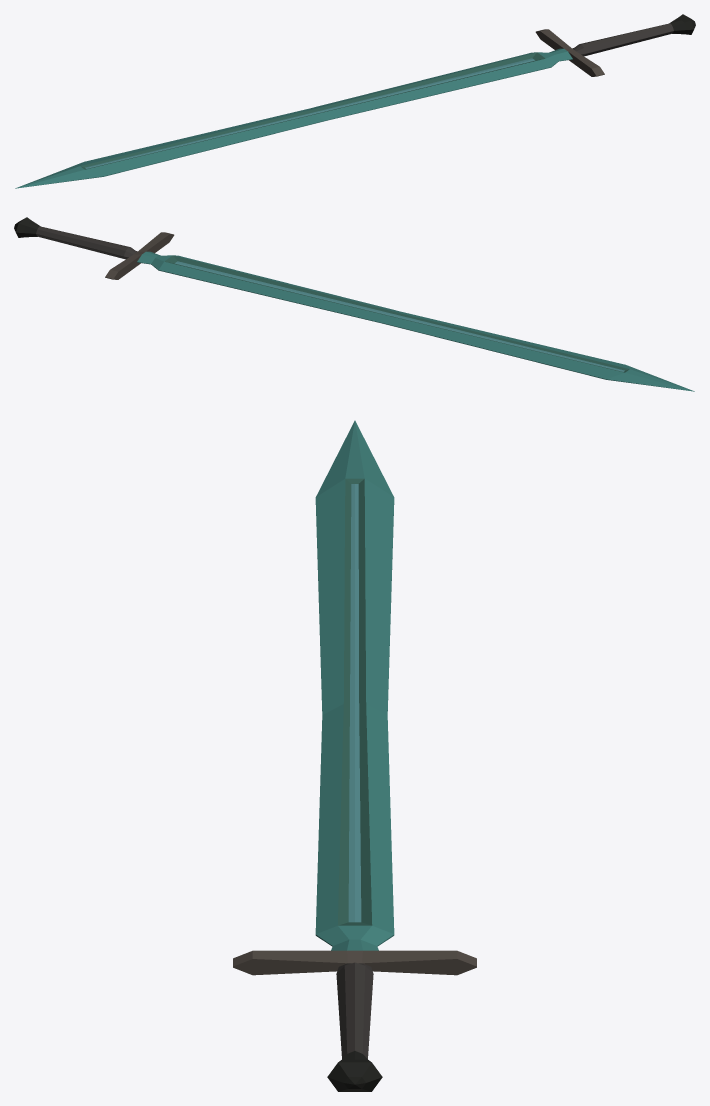
File: Sword.glb
The picture shows the model from 3 angles, top to bottom: view 1: azimuth 30°, elevation 25°; view 2: azimuth 150°, elevation 25°; view 3: azimuth 270°, elevation 25°; orthographic projection. The views are drawn at different scales.
Parts seen in each view (by area): view 1: Куб; view 2: Куб; view 3: Куб.
Boxes of the visible parts, x1,y1,x2,y2 form: Куб: [15, 14, 695, 188]; Куб: [14, 217, 694, 391]; Куб: [233, 420, 476, 1091].
Bounding box in the file's own units: 41.61 × 0.8594 × 6.45.
Materials: 1 (1 with a texture image).
